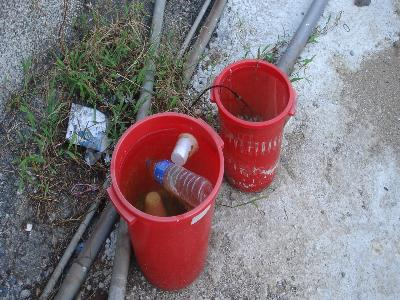bottle: (143, 156, 215, 211), (167, 132, 205, 167)
bucket: (105, 111, 227, 292), (209, 56, 299, 195)
